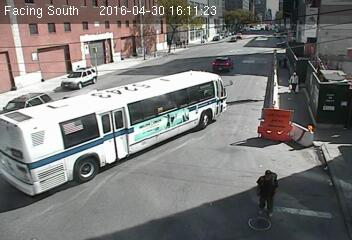neg: (146, 137, 166, 164), (83, 149, 103, 176), (55, 99, 74, 124), (317, 31, 335, 54), (82, 41, 97, 61), (270, 19, 285, 39), (33, 60, 48, 79), (164, 26, 178, 45), (174, 79, 186, 95), (240, 16, 252, 32)
pos: (247, 166, 287, 218), (285, 68, 305, 95)
